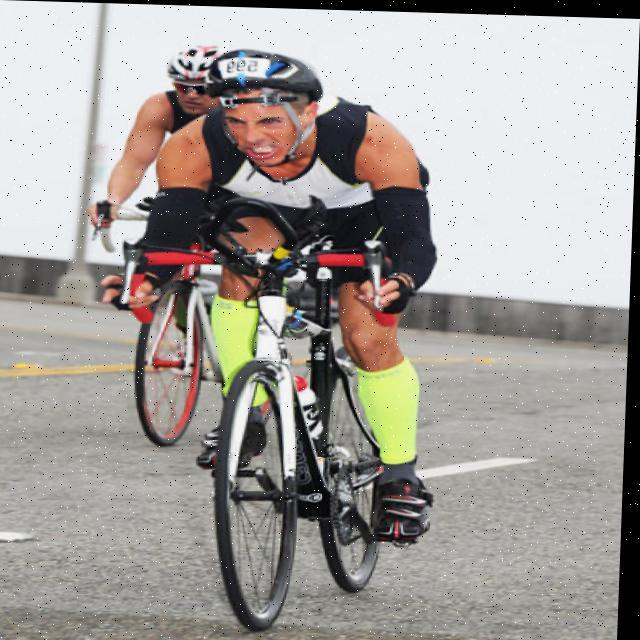With Helmet: (182, 38, 340, 167), (167, 38, 222, 110)
